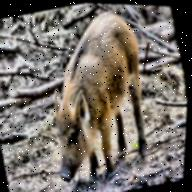boar: (12, 5, 189, 192)
